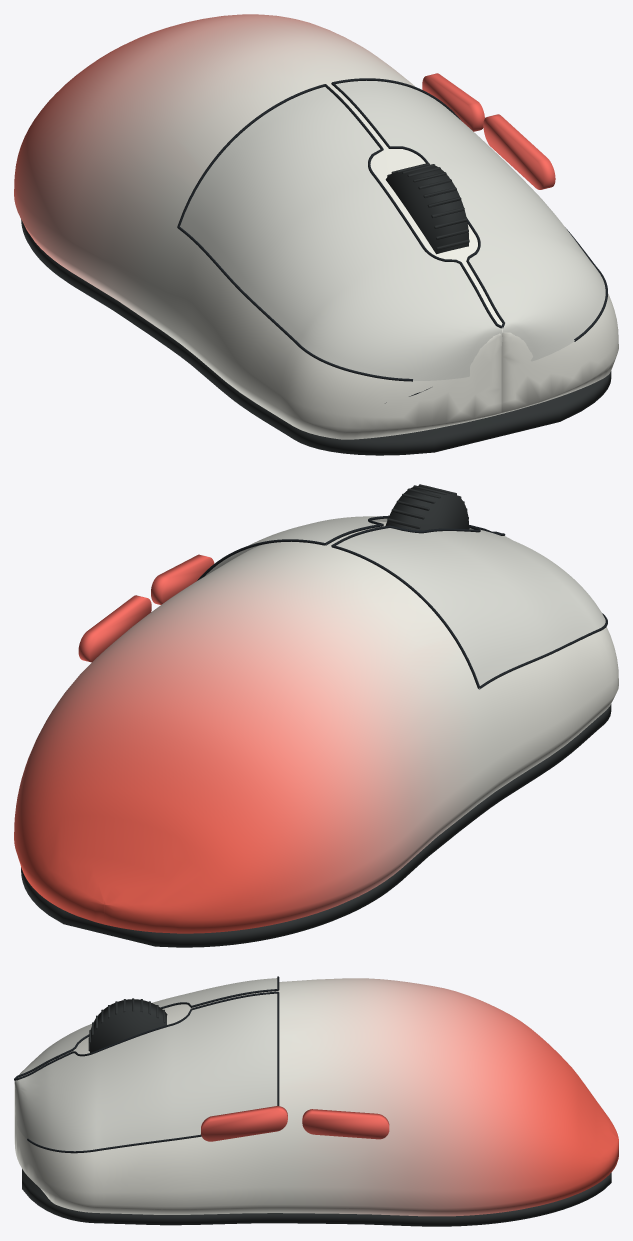
3 views of the same model, one above another, from view 1: azimuth 30°, elevation 25°; view 2: azimuth 150°, elevation 25°; view 3: azimuth 270°, elevation 25° (orthographic). The views are drawn at different scales.
Visible parts, largest first — view 1: Mouse body GPX continuous rounded back, Left click panel, Scroll wheel, Curved capsule left side button, Left click outer seam; view 2: Mouse body GPX continuous rounded back, Left click panel, Scroll wheel, Curved capsule left side button, Left click outer seam; view 3: Mouse body GPX continuous rounded back, Left click panel, Scroll wheel, Curved capsule left side button, Left click outer seam.
Boxes of the visible parts, x1=… form: Mouse body GPX continuous rounded back: x1=14, y1=14, x2=618, y2=439; Left click panel: x1=180, y1=80, x2=605, y2=380; Scroll wheel: x1=21, y1=163, x2=611, y2=455; Curved capsule left side button: x1=422, y1=73, x2=555, y2=189; Left click outer seam: x1=177, y1=78, x2=607, y2=403; Mouse body GPX continuous rounded back: x1=14, y1=521, x2=618, y2=933; Left click panel: x1=205, y1=516, x2=605, y2=688; Scroll wheel: x1=21, y1=484, x2=611, y2=947; Curved capsule left side button: x1=78, y1=554, x2=214, y2=662; Left click outer seam: x1=197, y1=515, x2=607, y2=689; Mouse body GPX continuous rounded back: x1=14, y1=978, x2=618, y2=1216; Left click panel: x1=14, y1=978, x2=277, y2=1151; Scroll wheel: x1=22, y1=998, x2=611, y2=1226; Curved capsule left side button: x1=201, y1=1106, x2=389, y2=1141; Left click outer seam: x1=14, y1=976, x2=279, y2=1153.
Bounding box in the file's own units: 0.0635 × 0.04 × 0.125.
